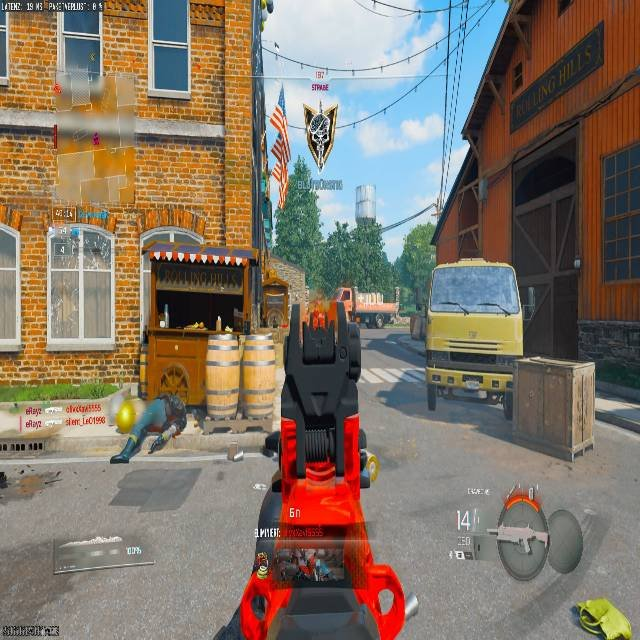head: (310, 72, 328, 94)
player: (300, 73, 340, 168)
